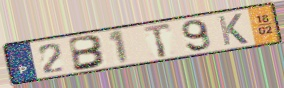1: (108, 29, 130, 66)
2: (38, 42, 66, 75)
9: (180, 19, 214, 52)
B: (68, 34, 109, 73)
K: (216, 12, 250, 47)
T: (142, 22, 173, 59)
